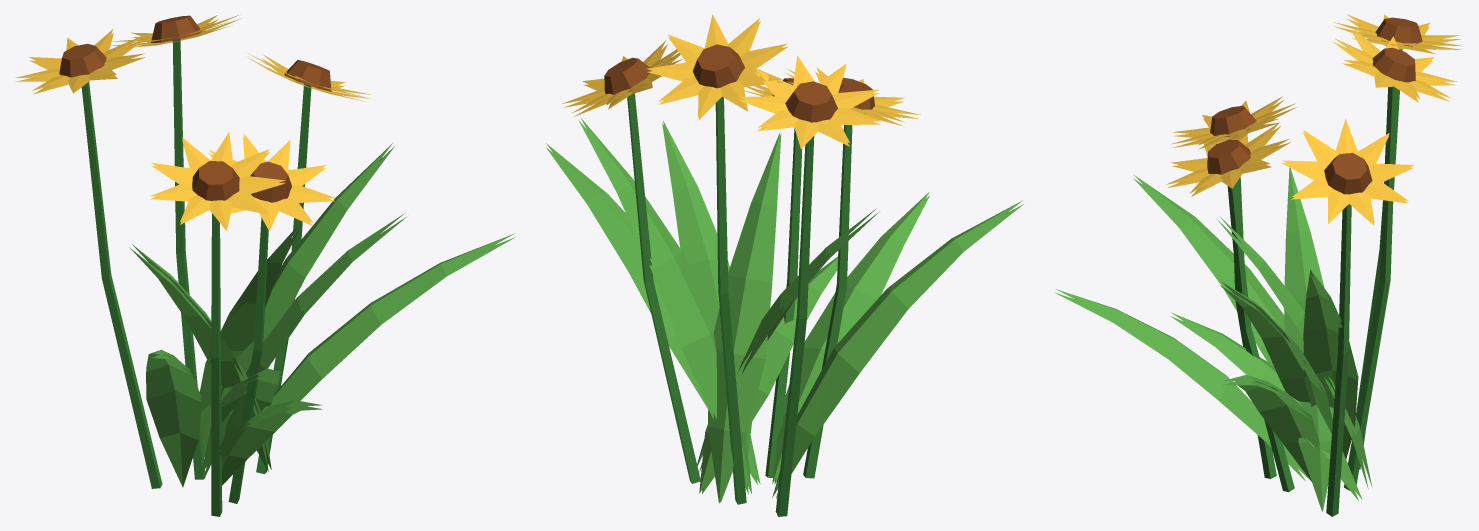
File: Prop_FlowersYellow.fbx
3 renders of one model, left to right at view 1: azimuth 30°, elevation 25°; view 2: azimuth 150°, elevation 25°; view 3: azimuth 270°, elevation 25°, orthographic. The views are drawn at different scales.
Visible parts, largest first — view 1: Prop_FlowersYellow; view 2: Prop_FlowersYellow; view 3: Prop_FlowersYellow.
Part boxes in pixels (<box>): Prop_FlowersYellow: <box>15,14,515,516</box>; Prop_FlowersYellow: <box>546,14,1023,516</box>; Prop_FlowersYellow: <box>1054,14,1462,516</box>.
Size of the model in its own units: 0.3388 by 0.3612 by 0.3012.
